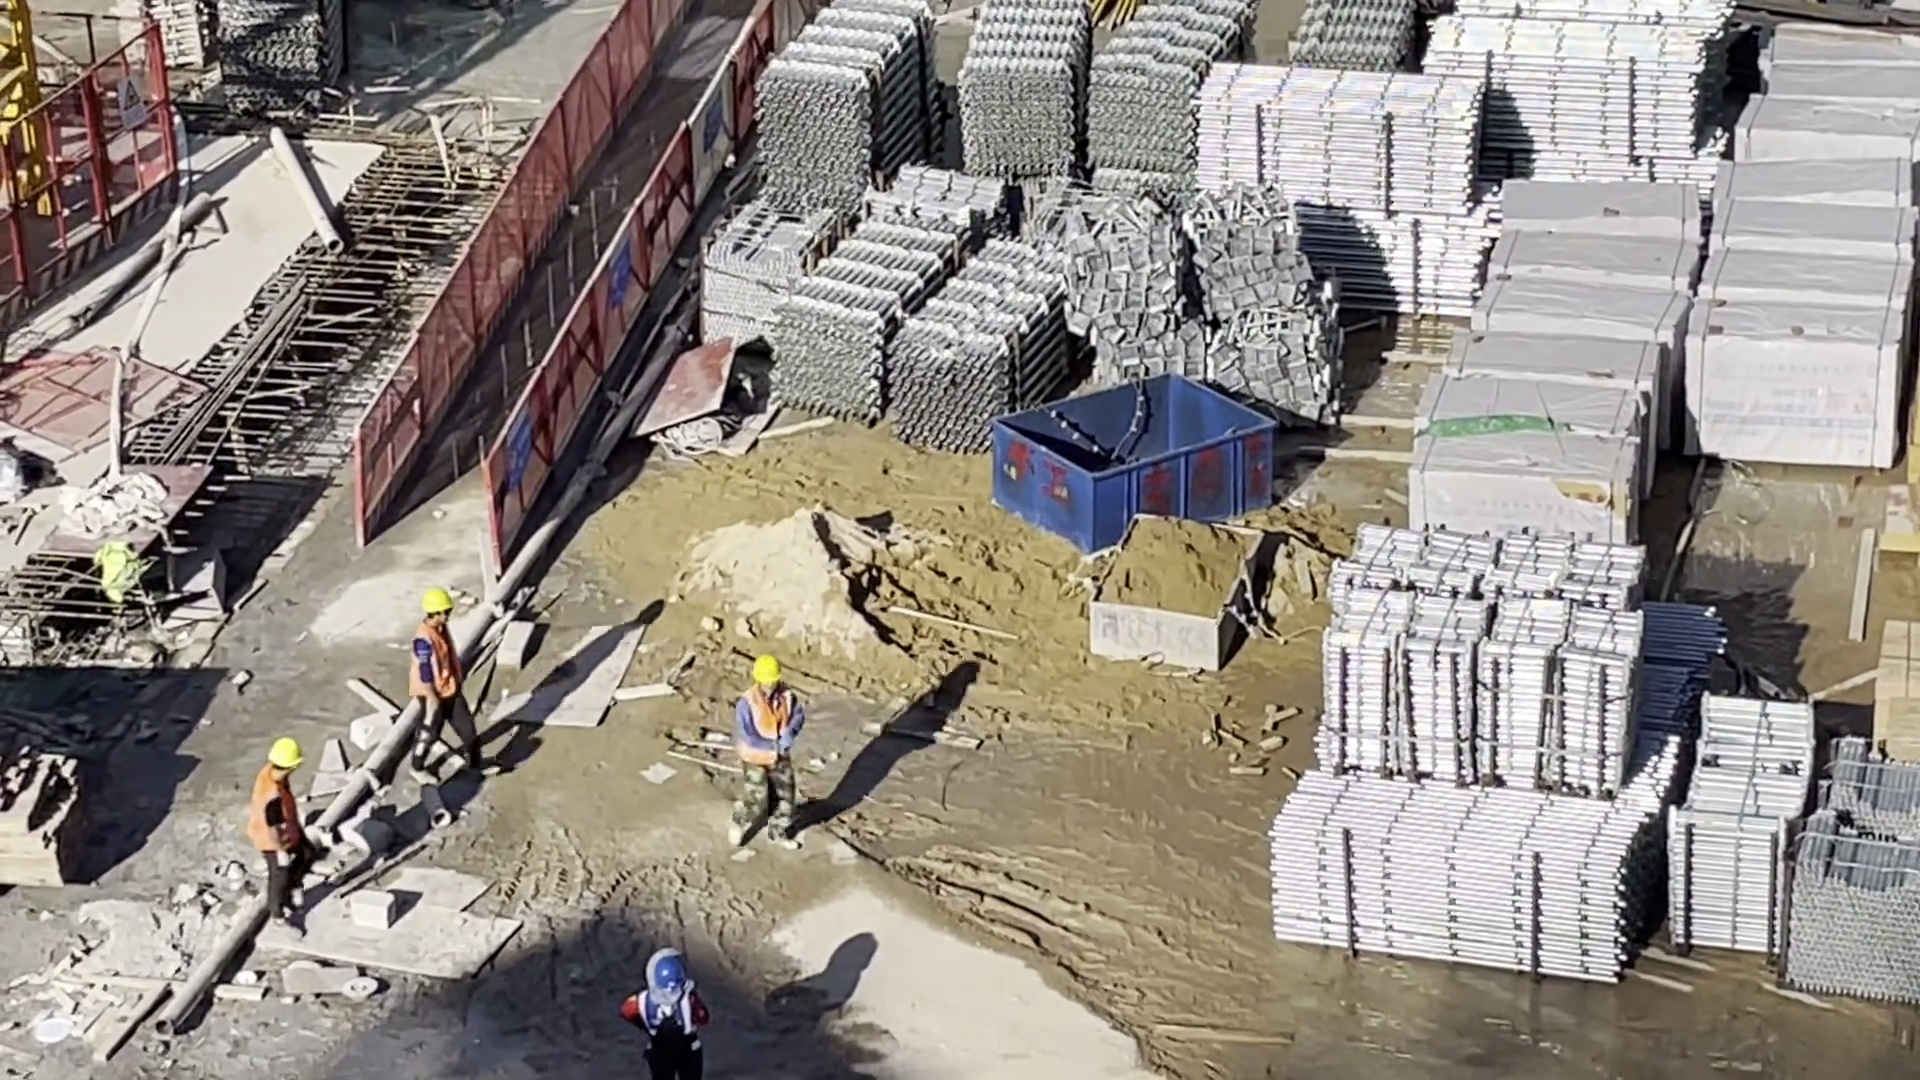board: (1873, 623, 1920, 772)
fence: (366, 4, 767, 524)
helmet: (270, 735, 302, 770), (654, 959, 686, 993), (750, 655, 782, 684), (420, 590, 453, 611)
hopper: (996, 372, 1270, 543), (1092, 518, 1261, 669)
person: (409, 593, 494, 789), (733, 658, 800, 851), (254, 734, 302, 923), (635, 960, 708, 1080)
scaffold: (1324, 529, 1644, 793), (1270, 770, 1656, 976), (1190, 62, 1481, 311), (771, 230, 1061, 440), (962, 4, 1244, 181), (1433, 18, 1708, 164), (1675, 692, 1811, 960), (758, 4, 938, 206), (1783, 738, 1920, 994), (218, 1, 342, 96), (1301, 1, 1416, 84), (127, 1, 219, 76)
slogan: (505, 401, 531, 491), (606, 230, 631, 314)
vest: (739, 688, 794, 766), (254, 773, 300, 854), (417, 623, 462, 701), (638, 993, 692, 1041)
